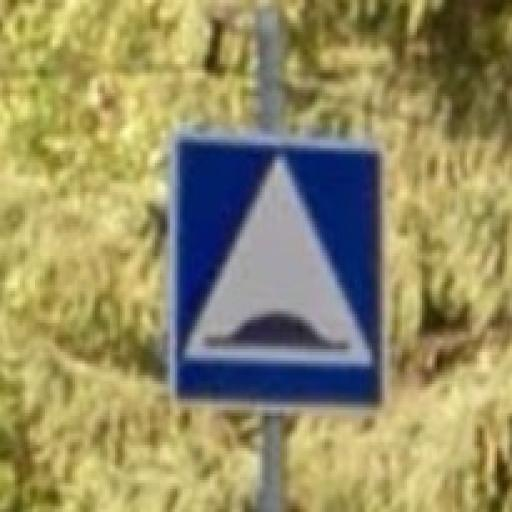traffic_sign: (168, 129, 393, 420)
